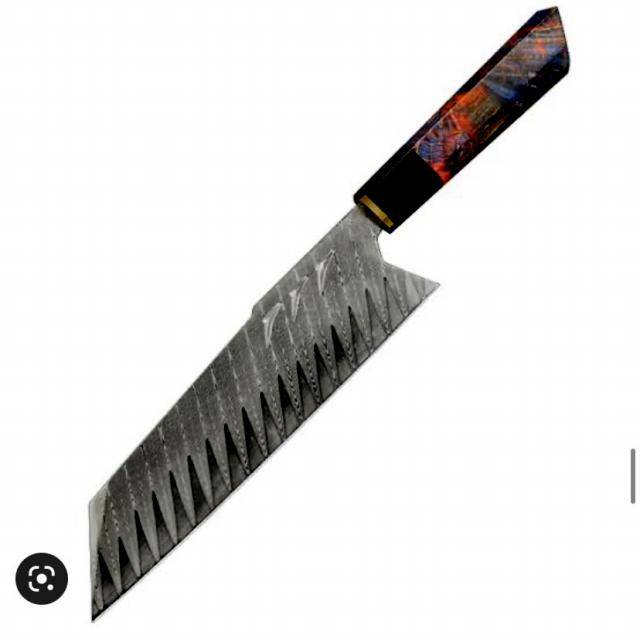knife: (70, 2, 594, 638)
